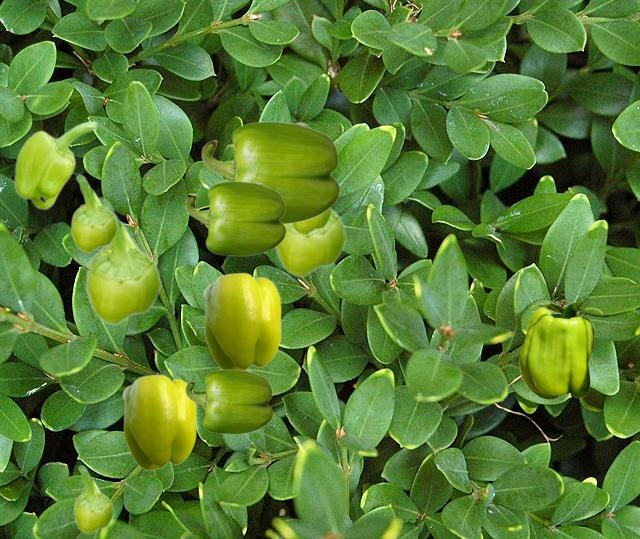bell_pepper: (201, 121, 339, 223), (85, 197, 161, 324), (519, 303, 601, 398), (13, 120, 97, 209), (203, 272, 280, 369), (185, 181, 285, 255), (122, 374, 195, 469), (185, 369, 272, 433), (273, 206, 346, 276), (70, 174, 117, 252), (73, 465, 113, 533), (291, 208, 331, 234)
